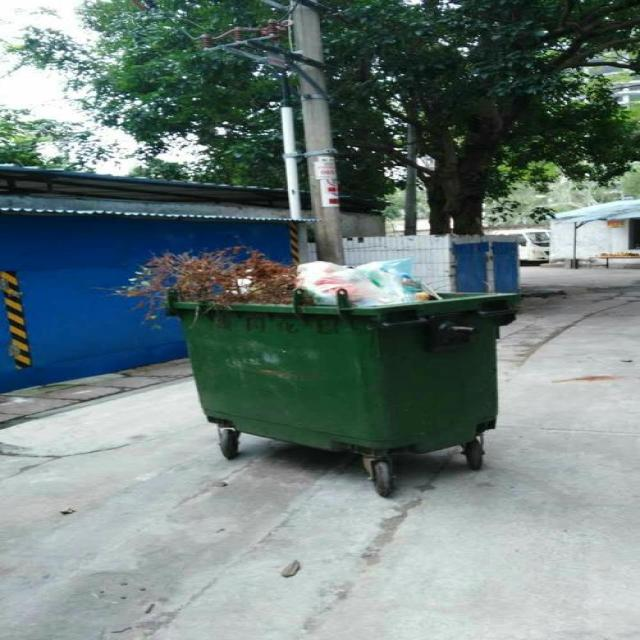overflow: (111, 246, 518, 452)
